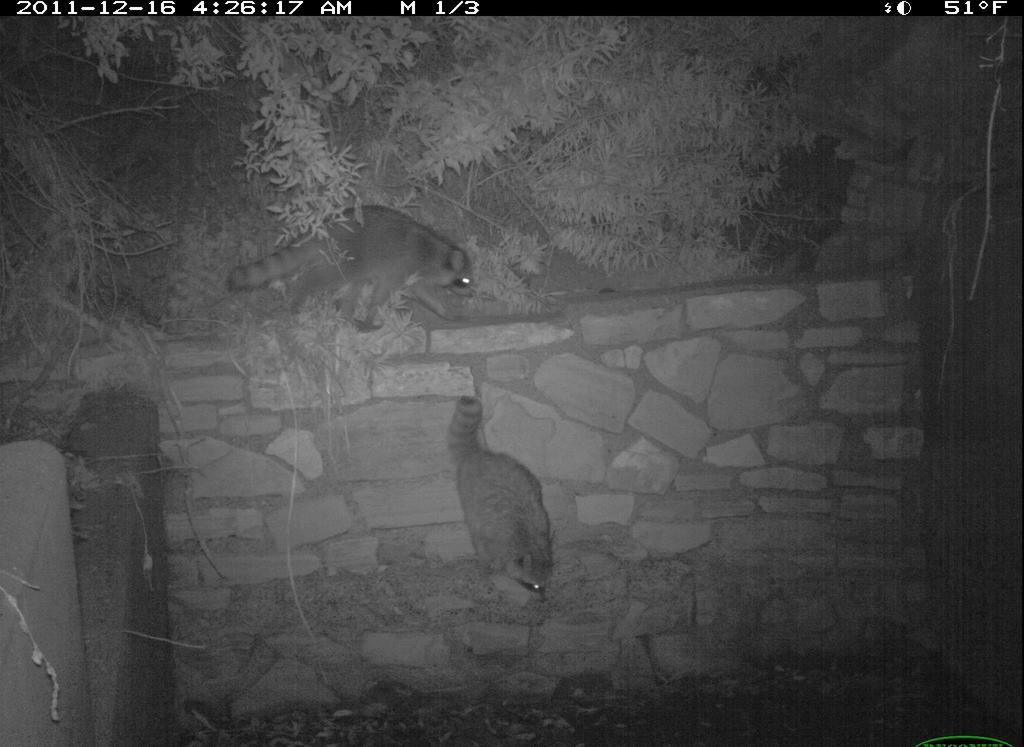raccoon: (436, 391, 600, 639), (222, 193, 491, 336)
